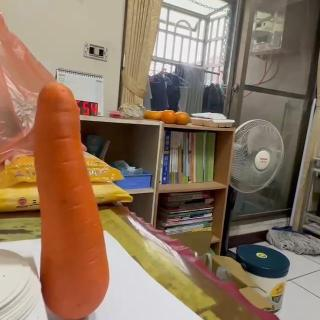carrot: (33, 79, 109, 320)
